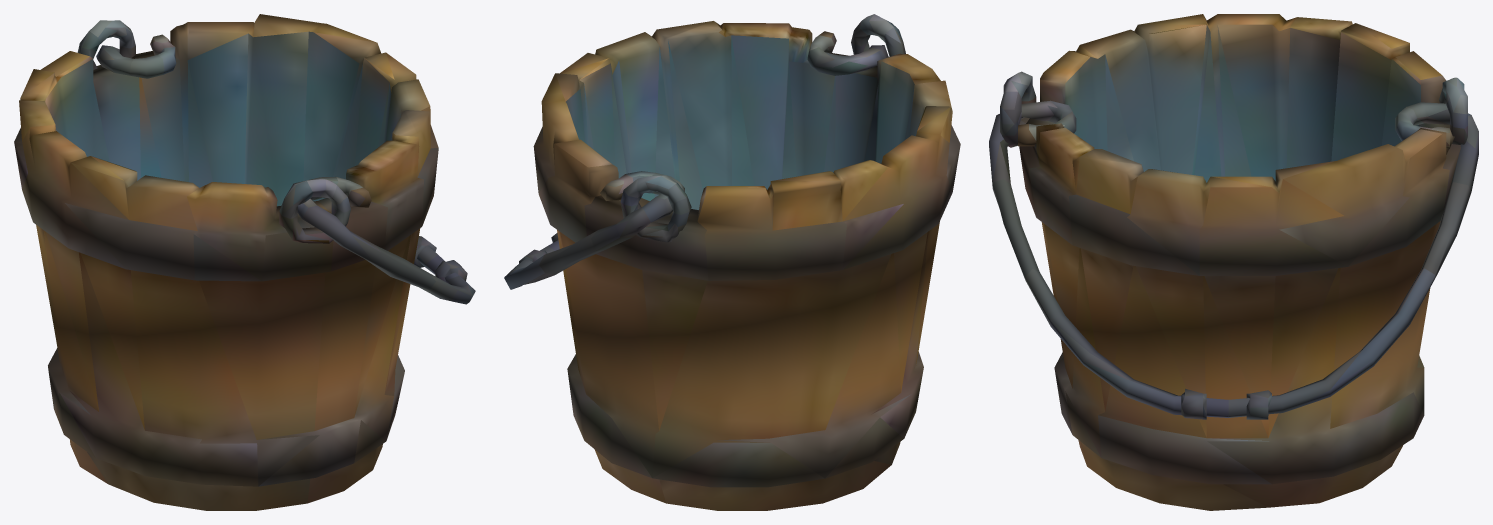
Rendered from wooden-bucket.glb.
3 renders of one model, left to right at view 1: azimuth 30°, elevation 25°; view 2: azimuth 150°, elevation 25°; view 3: azimuth 270°, elevation 25°, orthographic.
Parts seen in each view (by area): view 1: tripo_part_2, tripo_part_5, tripo_part_10, tripo_part_11; view 2: tripo_part_2, tripo_part_5, tripo_part_11, tripo_part_10; view 3: tripo_part_2, tripo_part_5, tripo_part_10, tripo_part_11, tripo_part_32, tripo_part_33.
Part boxes in pixels (x1,y1,x2,y2): tripo_part_2: (14, 14, 438, 510); tripo_part_5: (96, 34, 475, 304); tripo_part_10: (279, 179, 350, 243); tripo_part_11: (77, 20, 135, 69); tripo_part_2: (533, 21, 960, 510); tripo_part_5: (504, 31, 888, 289); tripo_part_11: (620, 175, 691, 242); tripo_part_10: (851, 14, 905, 56); tripo_part_2: (1019, 14, 1460, 510); tripo_part_5: (989, 100, 1478, 417); tripo_part_10: (1000, 71, 1036, 147); tripo_part_11: (1439, 77, 1467, 144); tripo_part_32: (1181, 388, 1206, 419); tripo_part_33: (1246, 390, 1271, 419).
Size of the model in its own units: 0.2505 by 0.2133 by 0.2642.
Materials: 1 (1 with a texture image).
